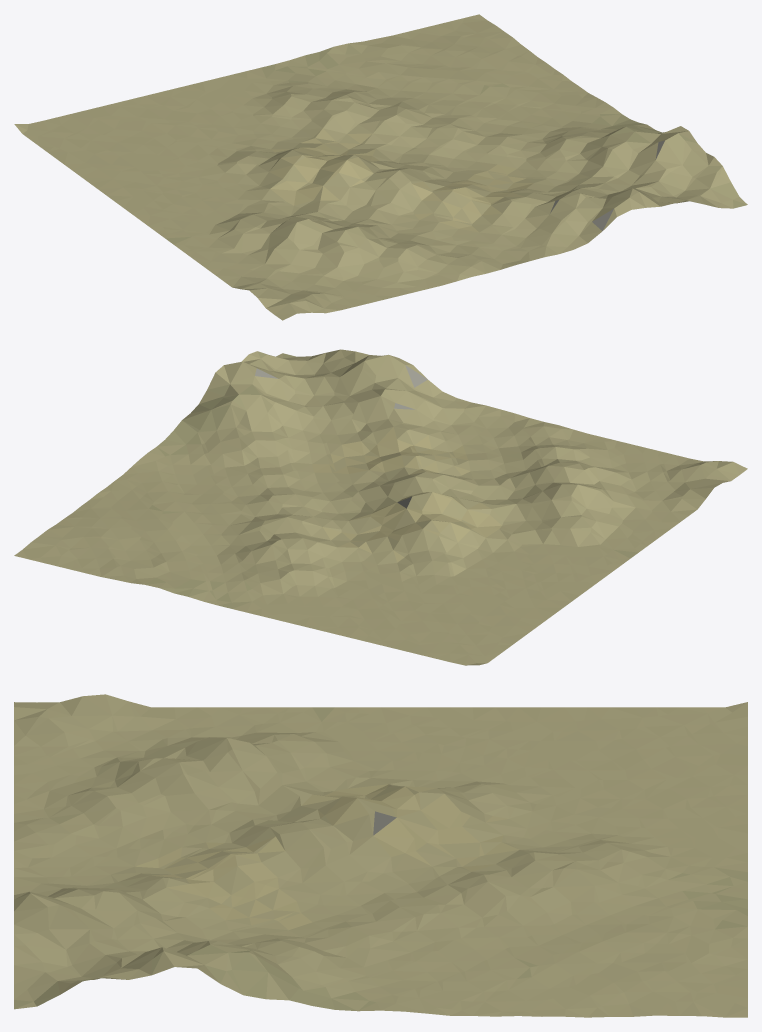
The model's file is Ground_4_-9.glb.
3 renders of one model, top to bottom at view 1: azimuth 30°, elevation 25°; view 2: azimuth 150°, elevation 25°; view 3: azimuth 270°, elevation 25°, orthographic. The views are drawn at different scales.
Parts seen in each view (by area): view 1: Ground_4_-9; view 2: Ground_4_-9; view 3: Ground_4_-9.
Part boxes in pixels (bbox=[...]): Ground_4_-9: bbox=[14, 14, 747, 320]; Ground_4_-9: bbox=[14, 349, 747, 665]; Ground_4_-9: bbox=[14, 694, 747, 1017].
Size of the model in its own units: 768 by 65.2 by 768.
